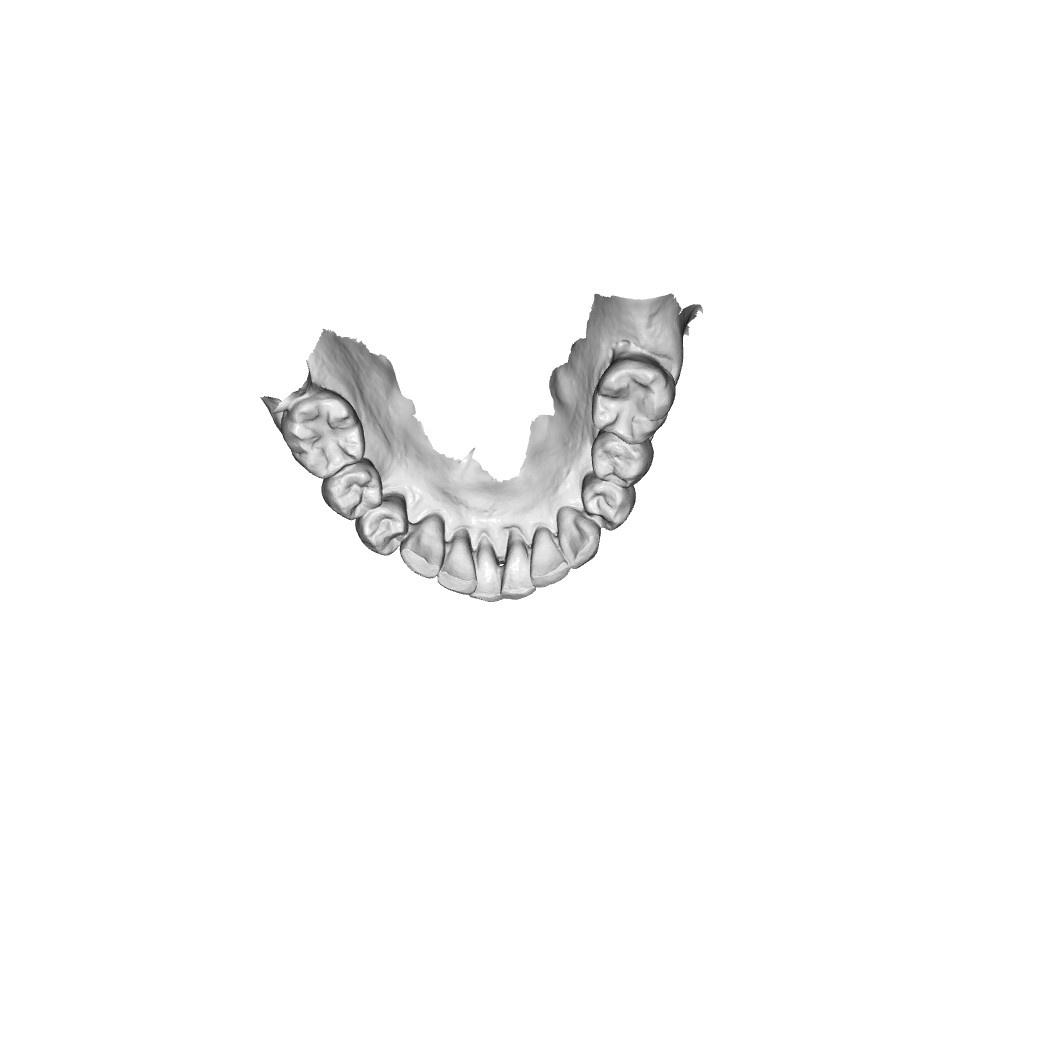canine: (557, 510, 602, 565), (402, 519, 445, 575)
incisor: (529, 532, 575, 588), (502, 537, 541, 596), (441, 528, 479, 588), (473, 536, 502, 595)
molar: (592, 357, 676, 446), (285, 388, 359, 475)
premolar: (325, 464, 384, 520), (591, 432, 652, 485), (355, 493, 405, 557), (582, 477, 636, 529)
